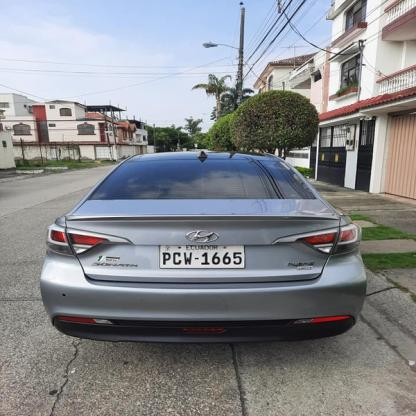Placa: (158, 237, 248, 273)
